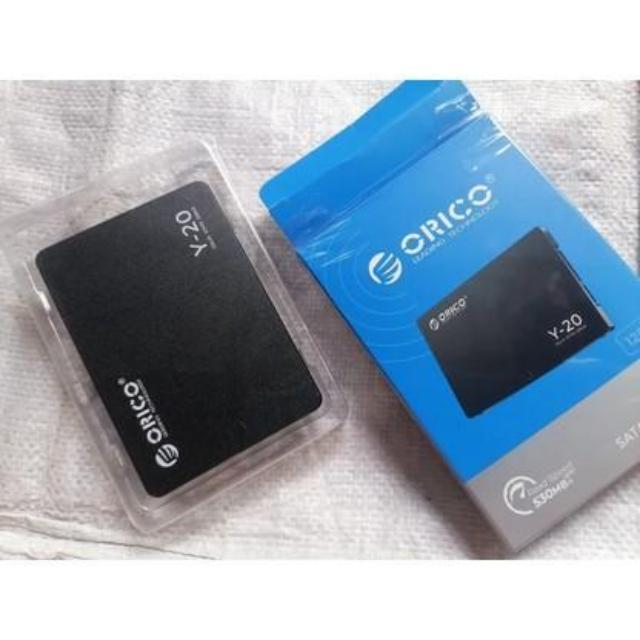DISK: (36, 180, 324, 508)
